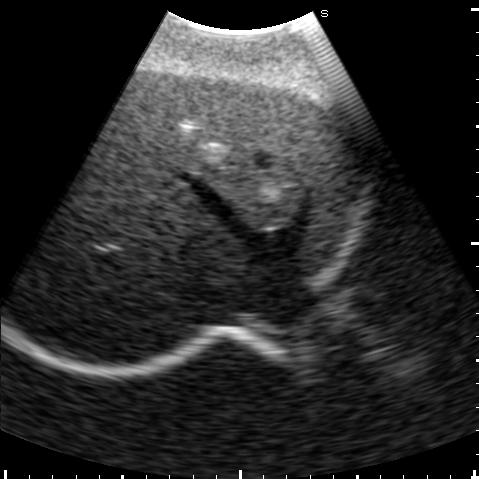S2: (299, 116, 352, 273)
S4: (137, 73, 316, 230)
S7: (25, 234, 183, 359)
S8: (76, 142, 252, 283)
Tumor: (202, 141, 225, 161), (257, 182, 277, 199), (179, 118, 192, 132)
